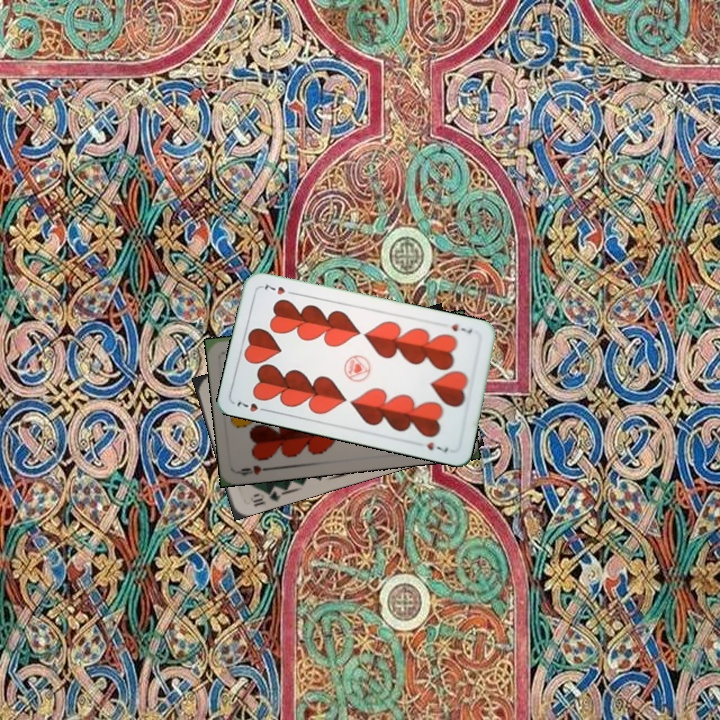G10: (249, 482, 285, 509)
H7: (233, 397, 272, 415), (447, 320, 475, 339)
H9: (234, 461, 275, 479)
